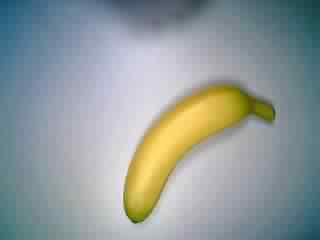banana: (123, 80, 278, 224)
